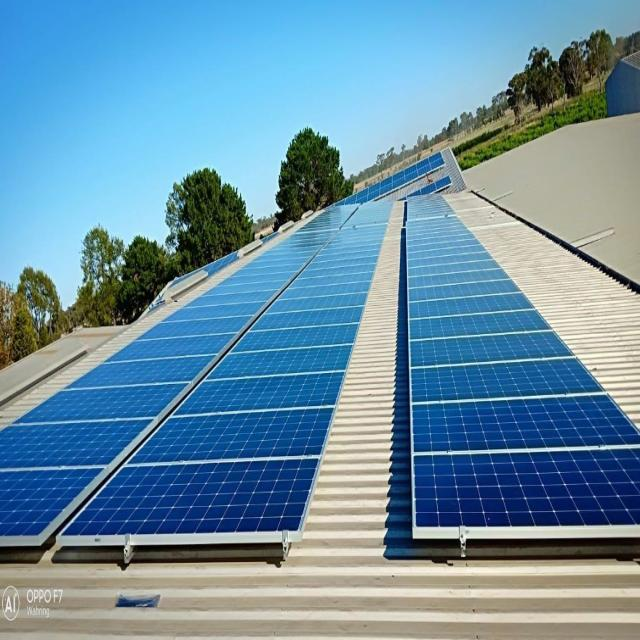clean-solar-panel: (1, 201, 391, 564), (406, 199, 640, 541)
